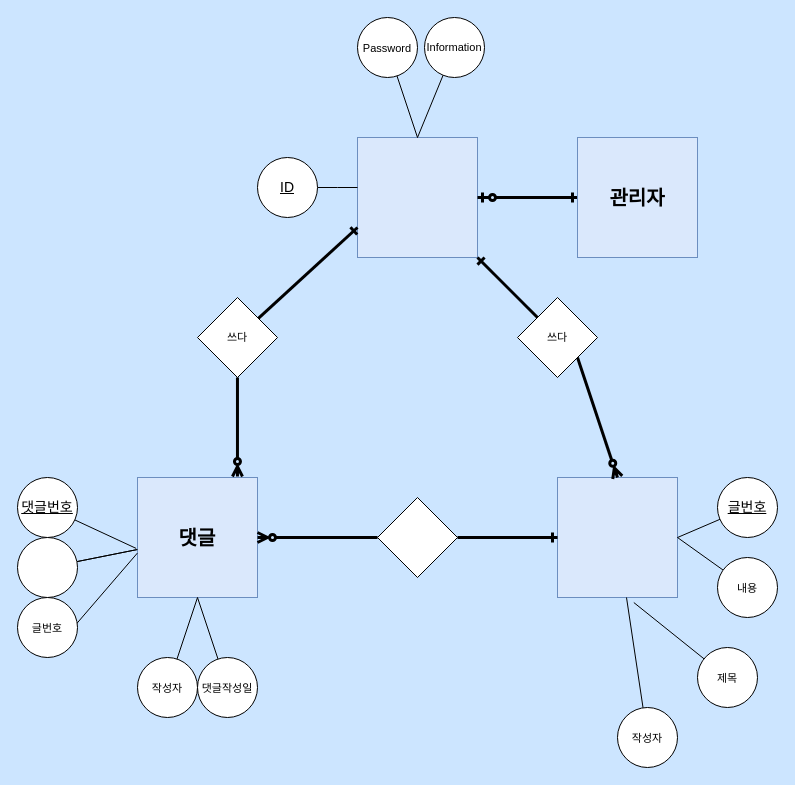
Image size: 795x785. Some labels were removed from this diagram. The shapes that lost their labels are listed below. From the top down, each one's centre as x and y in pixels, then its label:
At (417,197): "회원".
At (417,537): "포함하다".
At (617,537): "게시글".
At (47,567): "댓글내용".
